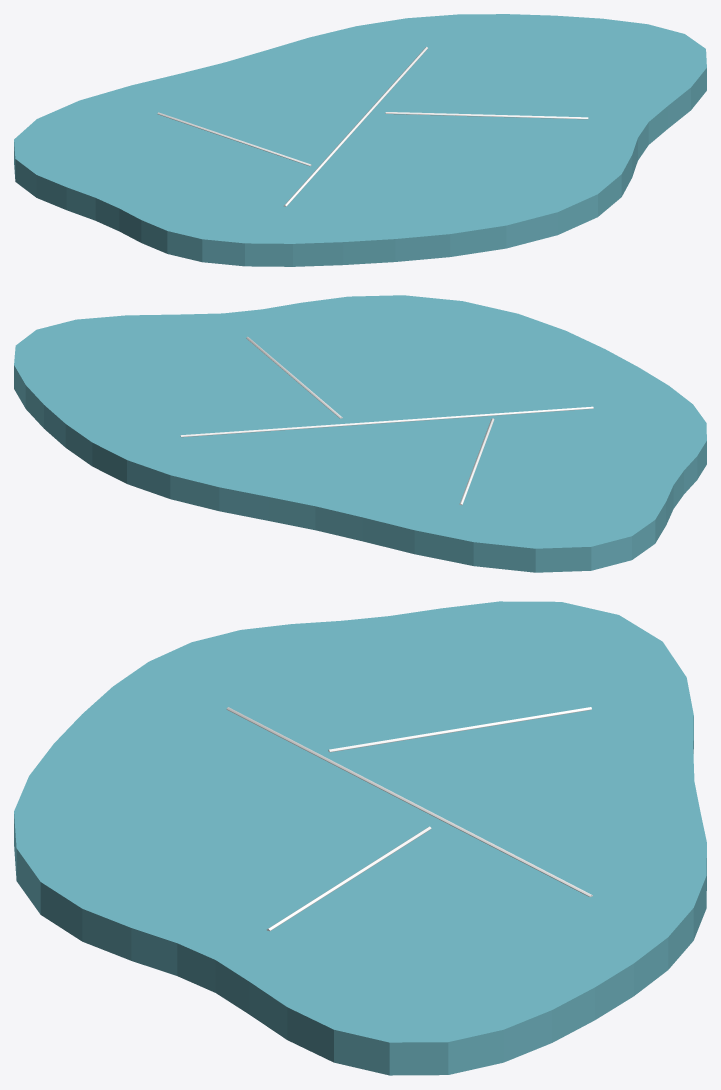
Rendered from SM_IcePuddle.glb.
3 views of the same model, one above another, from view 1: azimuth 30°, elevation 25°; view 2: azimuth 150°, elevation 25°; view 3: azimuth 270°, elevation 25° (orthographic). The views are drawn at different scales.
Parts seen in each view (by area): view 1: SM_IcePuddle; view 2: SM_IcePuddle; view 3: SM_IcePuddle.
Part boxes in pixels (x1=…): SM_IcePuddle: x1=14, y1=14, x2=706, y2=266; SM_IcePuddle: x1=14, y1=295, x2=706, y2=572; SM_IcePuddle: x1=14, y1=601, x2=706, y2=1075.
Size of the model in its own units: 2.59 by 0.0958 by 1.72.
